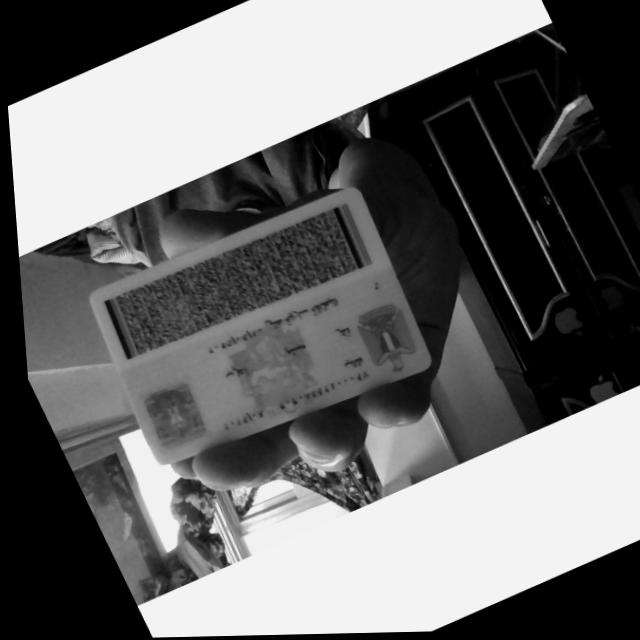back: (89, 188, 429, 463)
